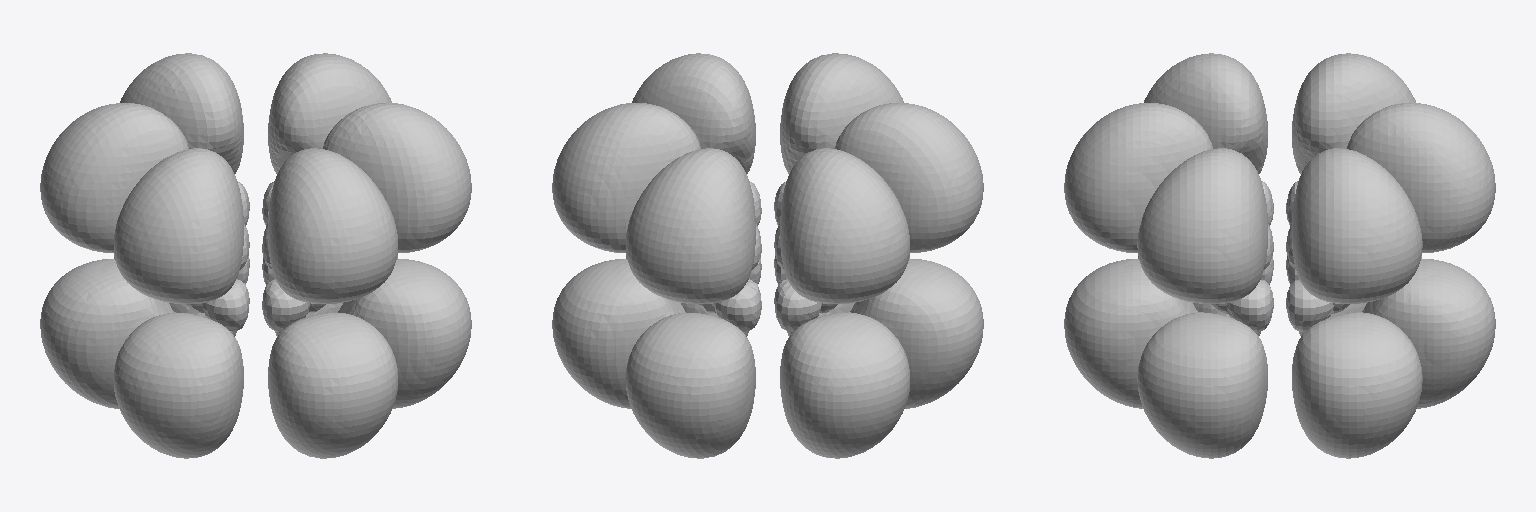
The model's file is orb_n=6_ l=4 _m=-3.obj.
3 views of the same model, side by side, from view 1: azimuth 30°, elevation 25°; view 2: azimuth 150°, elevation 25°; view 3: azimuth 270°, elevation 25° (orthographic).
Parts seen in each view (by area): view 1: orb_n=6__l=4__m=-3; view 2: orb_n=6__l=4__m=-3; view 3: orb_n=6__l=4__m=-3.
Part boxes in pixels (bbox=[...]): orb_n=6__l=4__m=-3: bbox=[40, 53, 471, 458]; orb_n=6__l=4__m=-3: bbox=[552, 53, 983, 458]; orb_n=6__l=4__m=-3: bbox=[1064, 53, 1495, 458].
Bounding box in the file's own units: 123 × 102 × 134.